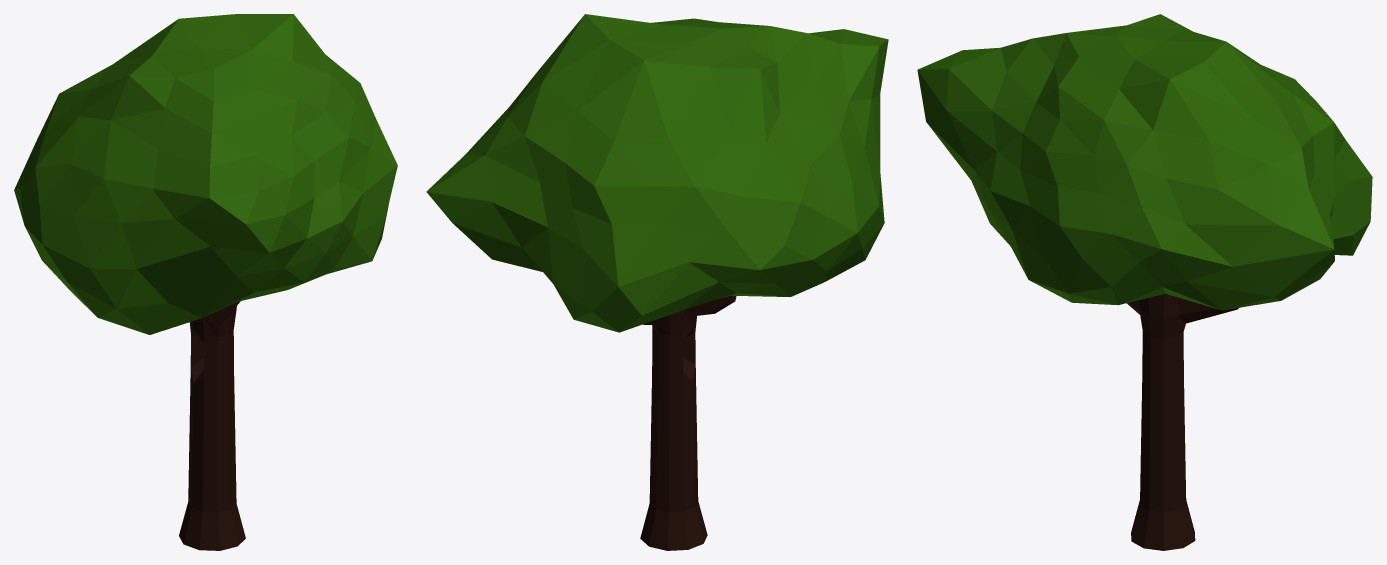
The model's file is t3-green.obj.
The picture shows the model from 3 angles, left to right: view 1: azimuth 30°, elevation 25°; view 2: azimuth 150°, elevation 25°; view 3: azimuth 270°, elevation 25°; orthographic projection.
Parts seen in each view (by area): view 1: t3-green_Cylinder; view 2: t3-green_Cylinder; view 3: t3-green_Cylinder.
Boxes of the visible parts, x1,y1,x2,y2 form: t3-green_Cylinder: (14, 14, 397, 550); t3-green_Cylinder: (426, 14, 888, 550); t3-green_Cylinder: (917, 14, 1372, 550).
Bounding box in the file's own units: 6.51 × 9.23 × 7.64.
